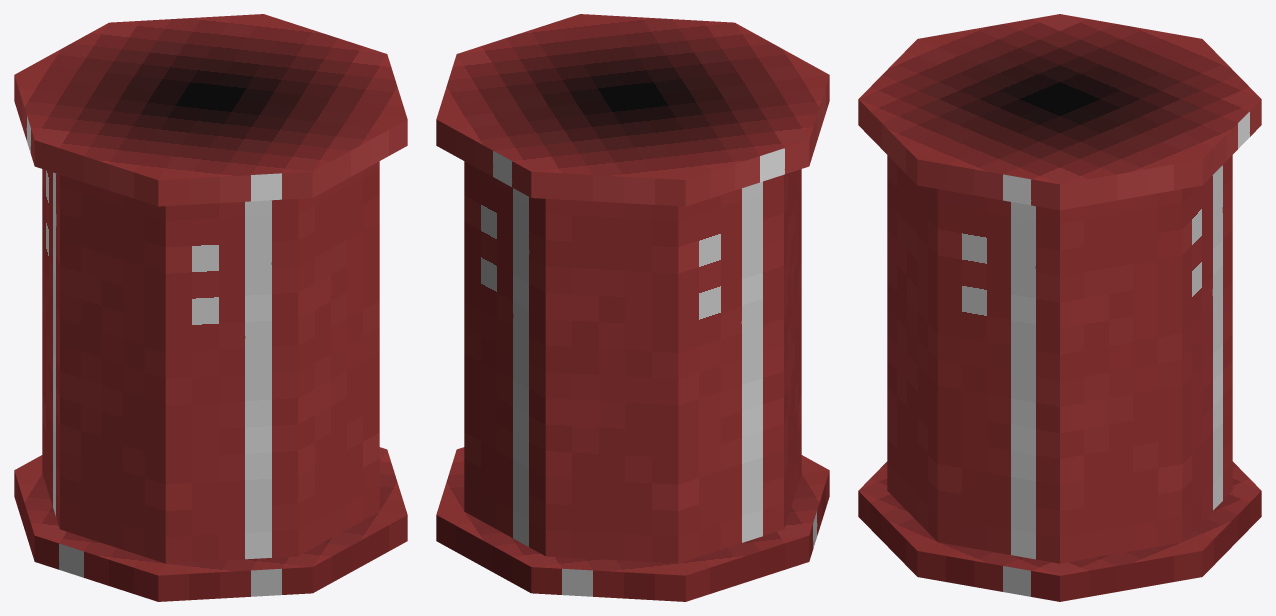
File: pipe_rim_red.obj
The picture shows the model from 3 angles, left to right: view 1: azimuth 30°, elevation 25°; view 2: azimuth 150°, elevation 25°; view 3: azimuth 270°, elevation 25°; orthographic projection.
Visible parts, largest first — view 1: Side, Top; view 2: Side, Top; view 3: Side, Top.
Part boxes in pixels (x1,y1,x2,y2): Side: [14, 75, 407, 601]; Top: [14, 14, 407, 575]; Side: [436, 75, 829, 601]; Top: [436, 14, 829, 575]; Side: [858, 99, 1261, 601]; Top: [858, 14, 1261, 575].
Size of the model in its own units: 0.875 by 1 by 0.875.
